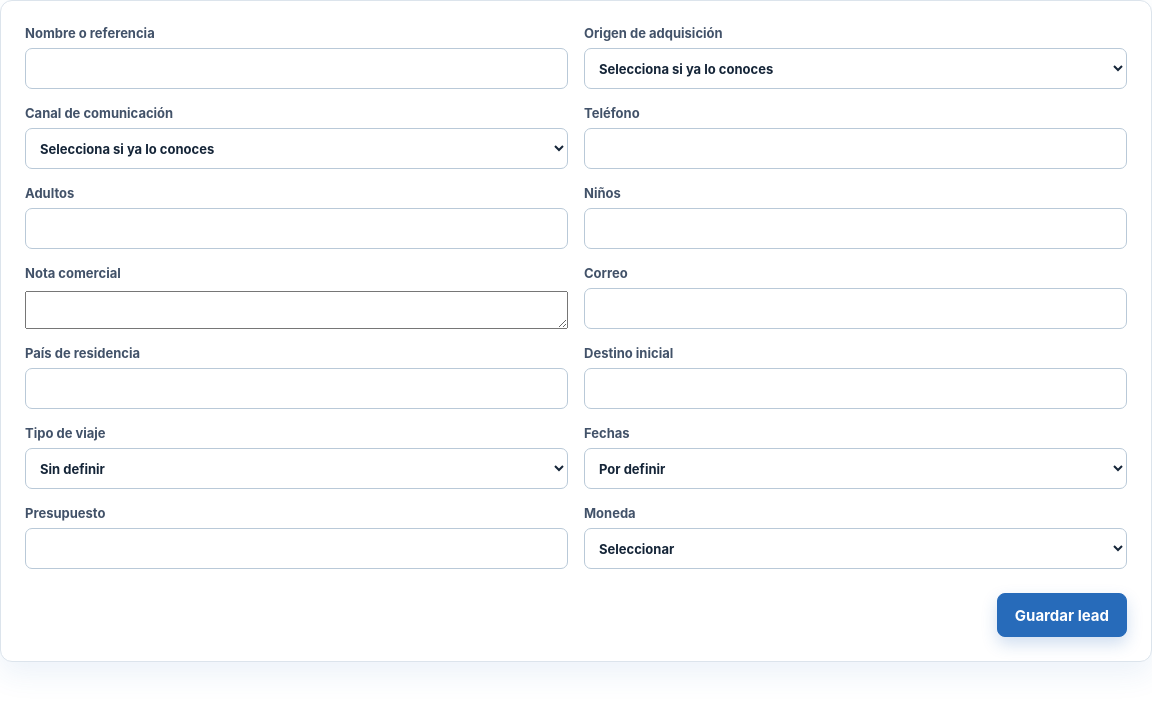
Scenario: LeadForm › requires currency when a budget amount is entered
This screenshot has width=1152, height=720.
Type "500" into the field labelled "Presupuesto" at (296, 548), box left=25, top=528, right=568, bottom=569
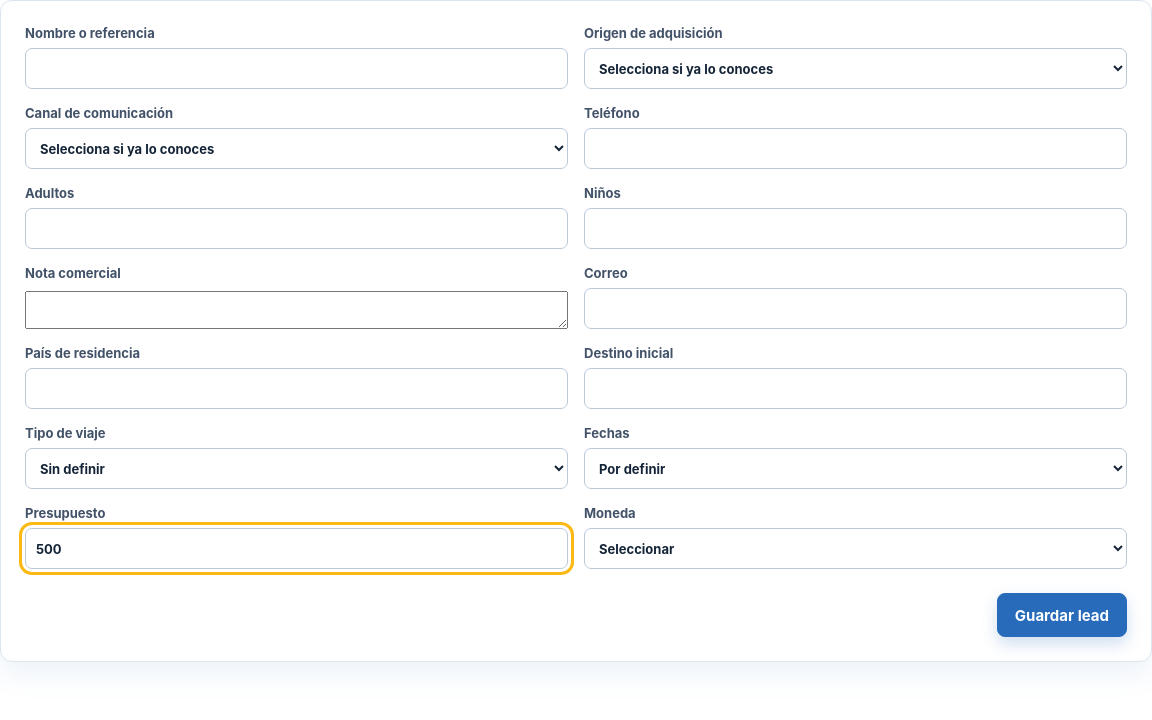
Click the button "Guardar lead" at (1062, 615), box left=997, top=593, right=1127, bottom=637
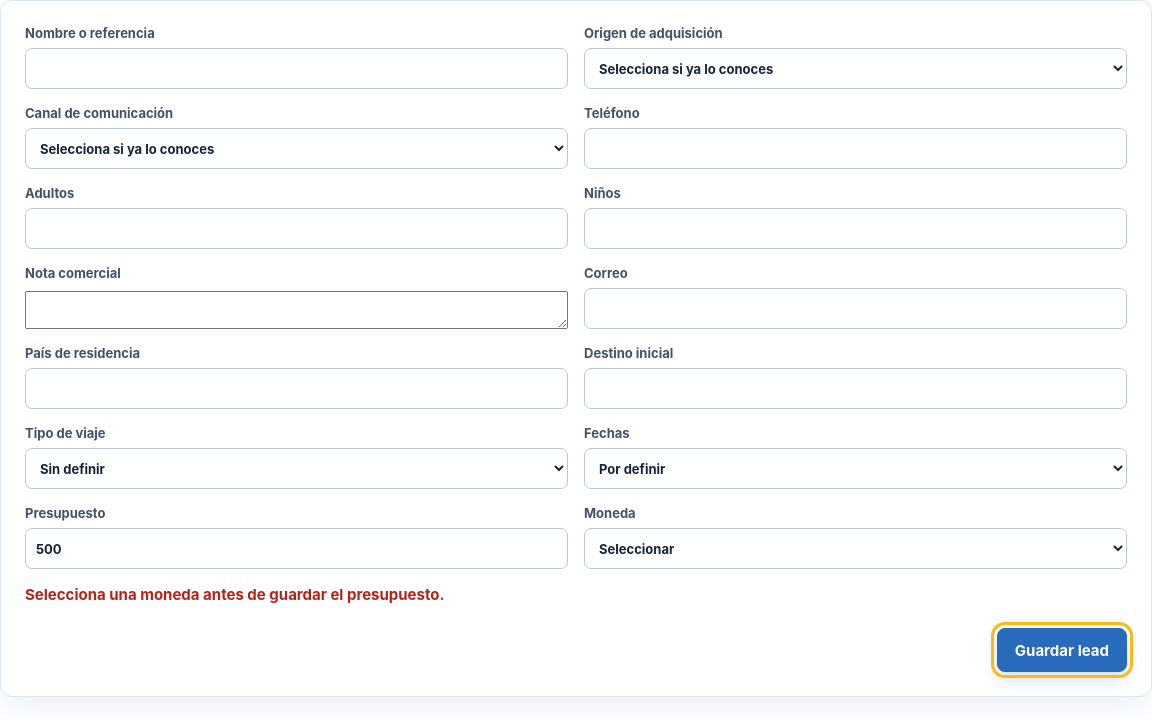
Expected: the text "Selecciona una moneda antes de guardar el presupuesto." is shown, left=25, top=585, right=444, bottom=604
